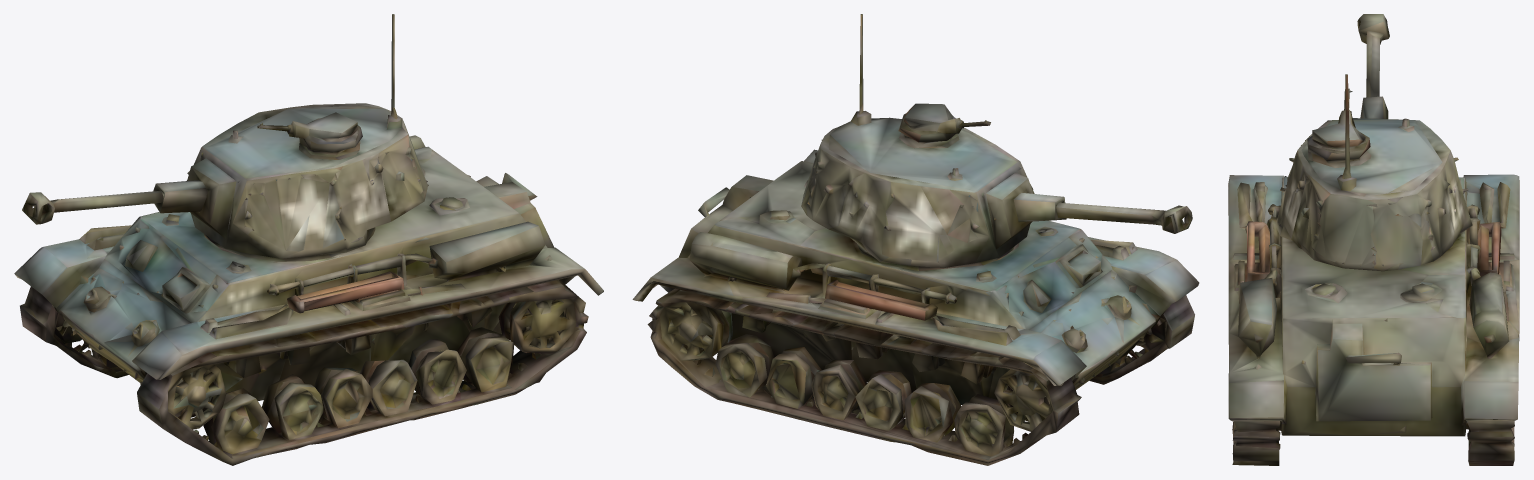
The model's file is tank5_opt.glb.
The picture shows the model from 3 angles, left to right: view 1: azimuth 30°, elevation 25°; view 2: azimuth 150°, elevation 25°; view 3: azimuth 270°, elevation 25°; orthographic projection. The views are drawn at different scales.
Visible parts, largest first — view 1: node_0; view 2: node_0; view 3: node_0.
Part boxes in pixels (box(x1,y1,x2,y2)): node_0: box(14, 14, 603, 465); node_0: box(632, 14, 1199, 465); node_0: box(1228, 14, 1519, 465).
Bounding box in the file's own units: 1.04 × 0.7048 × 0.5203.
Materials: 1 (1 with a texture image).
